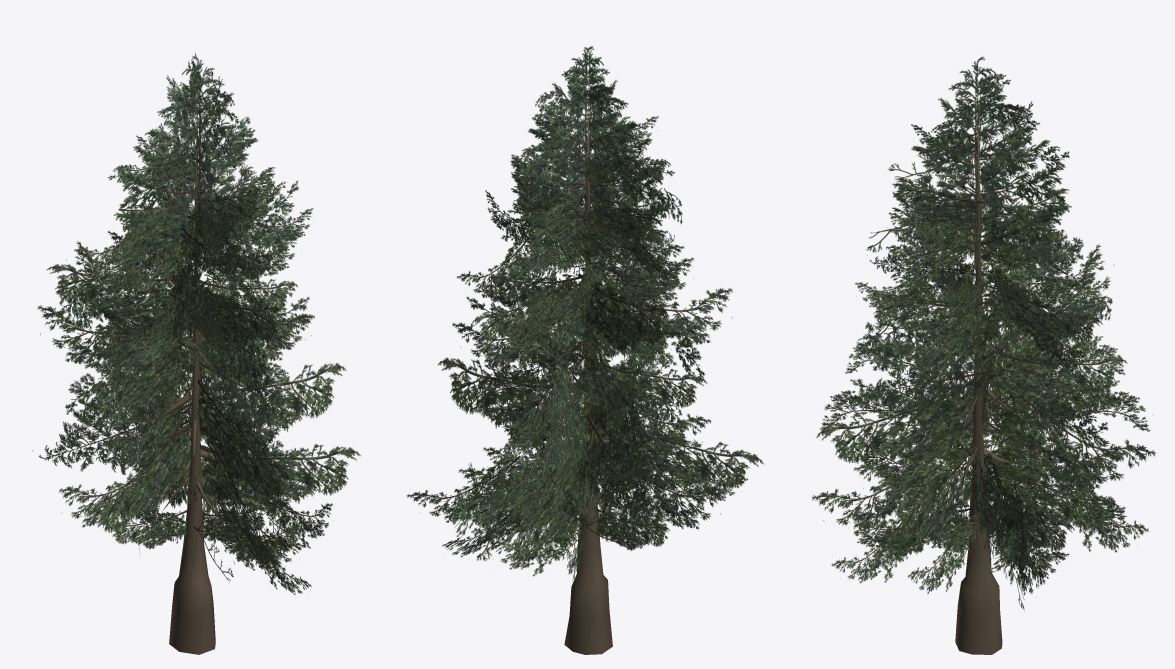
File: pine_b.glb
3 renders of one model, left to right at view 1: azimuth 30°, elevation 25°; view 2: azimuth 150°, elevation 25°; view 3: azimuth 270°, elevation 25°, orthographic.
Visible parts, largest first — view 1: Tree_Branches_01.002_w; view 2: Tree_Branches_01.002_w; view 3: Tree_Branches_01.002_w.
Boxes of the visible parts, x1,y1,x2,y2 form: Tree_Branches_01.002_w: (32,53,360,654); Tree_Branches_01.002_w: (407,46,763,654); Tree_Branches_01.002_w: (812,57,1155,654).
Bounding box in the file's own units: 9.27 × 17 × 9.27.
2 materials, 2 textured.
